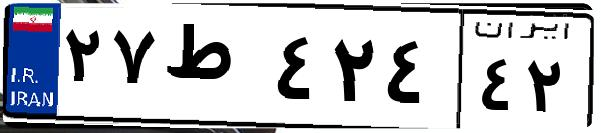2: (330, 28, 385, 110), (57, 26, 110, 100), (525, 38, 570, 115)
4: (270, 28, 330, 110), (385, 28, 445, 110), (475, 38, 525, 113)
7: (110, 28, 158, 98)
ط: (158, 20, 270, 120)
